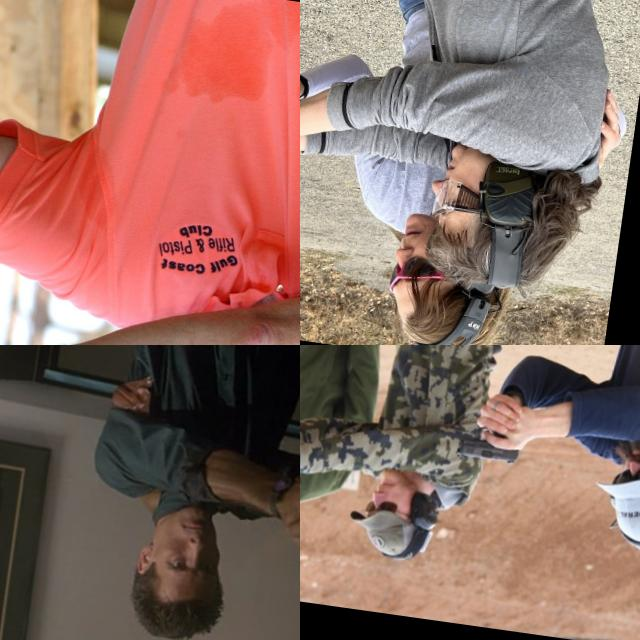handgun: (452, 422, 522, 470), (300, 135, 347, 188), (300, 461, 331, 496)
